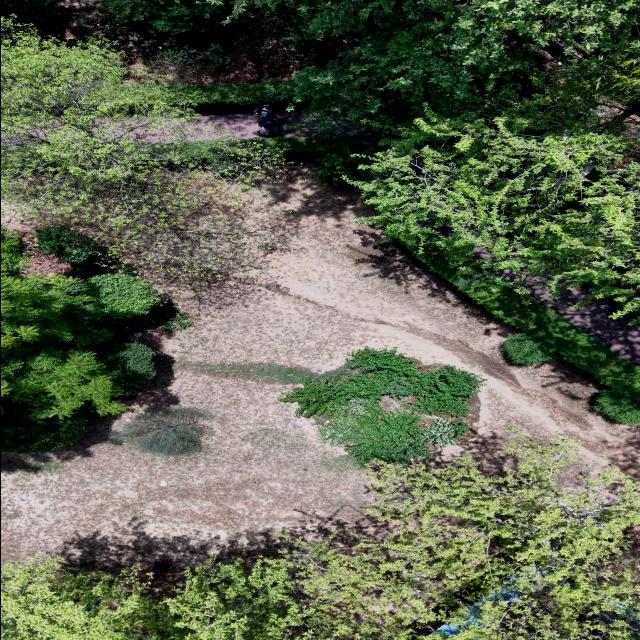DRY_AREA: (1, 176, 637, 579), (269, 178, 637, 473), (127, 18, 302, 84), (519, 274, 639, 365), (521, 274, 639, 365), (523, 275, 639, 364), (524, 276, 639, 364), (525, 281, 639, 364), (144, 31, 300, 84), (557, 287, 639, 364), (95, 108, 263, 142), (102, 108, 262, 141), (103, 109, 260, 141), (274, 108, 381, 144), (41, 0, 100, 40), (192, 109, 260, 138)
VEGETATION_TREE: (1, 0, 639, 451), (82, 0, 639, 388), (205, 0, 638, 315), (290, 0, 639, 388), (2, 437, 639, 639), (1, 20, 279, 442), (294, 0, 639, 320), (166, 437, 639, 639), (346, 95, 639, 388), (1, 21, 279, 290), (76, 0, 638, 121), (87, 0, 637, 120), (349, 97, 639, 322), (256, 0, 637, 124), (291, 0, 637, 120), (1, 232, 188, 451), (400, 229, 639, 388), (2, 0, 318, 85), (282, 348, 482, 462), (1, 558, 186, 639), (289, 348, 482, 416), (319, 403, 467, 462), (1, 347, 125, 417), (1, 275, 111, 347), (99, 0, 228, 45), (262, 135, 370, 184), (110, 407, 208, 454), (1, 403, 86, 452), (101, 299, 191, 336), (84, 273, 157, 317), (96, 342, 154, 388), (35, 225, 99, 261), (502, 333, 554, 364), (592, 389, 639, 423), (1, 230, 25, 273)
